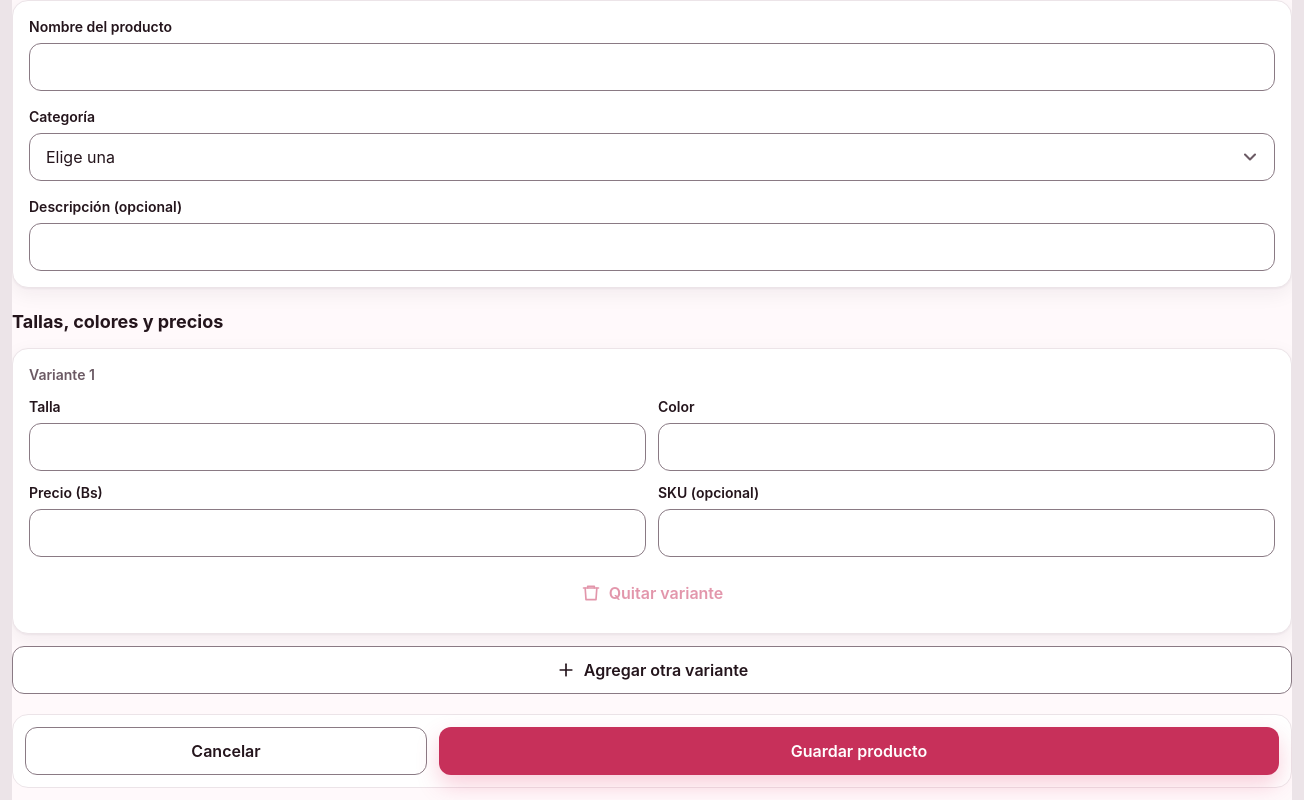
Formulario de producto — un SKU repetido se muestra junto al campo SKU
The width and height of the screenshot is (1304, 800).
Select "Botas" in the dropdown labelled "Categoría" at (652,157), box [29,133,1275,181]
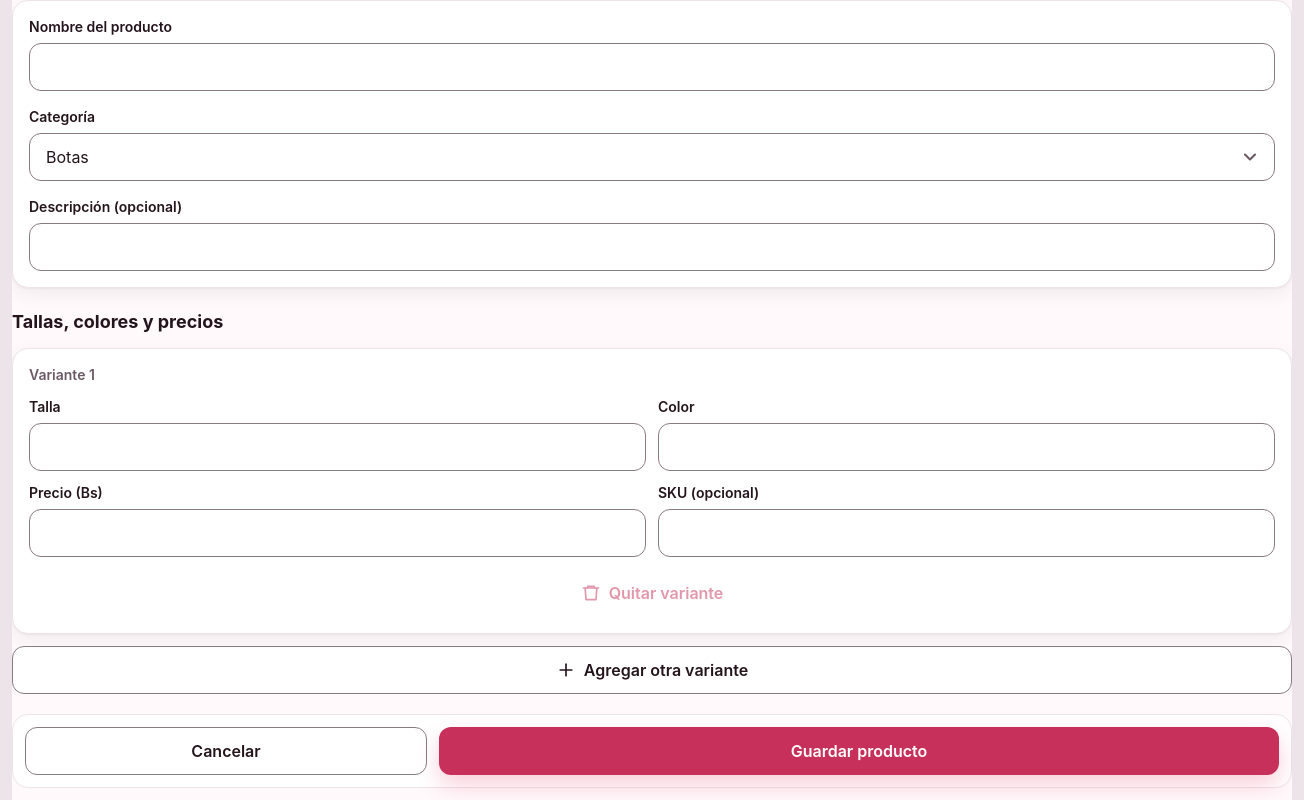
Type "Bota Andes" into the field labelled "Nombre del producto" at (652,67), box [29,43,1275,91]
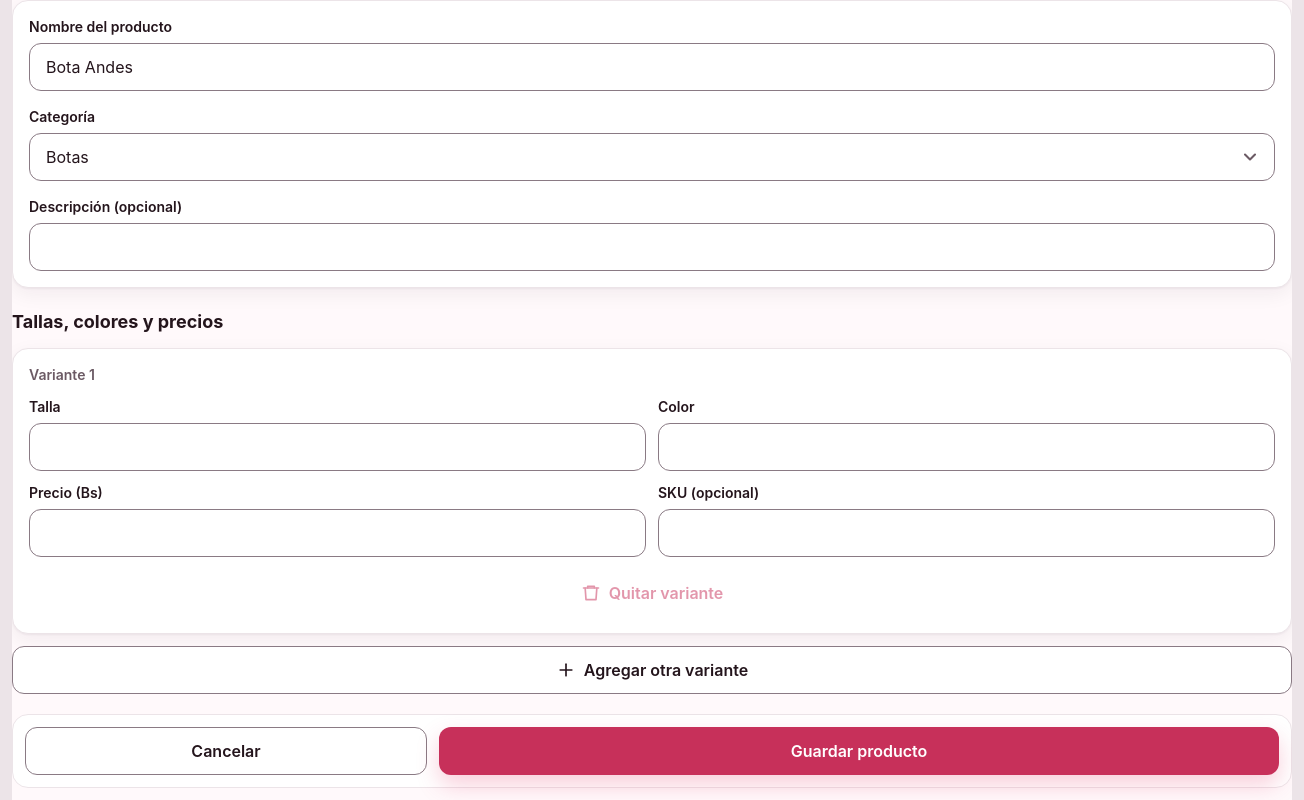
Type "38" into the field labelled "Talla" at (338,447), box [29,423,646,471]
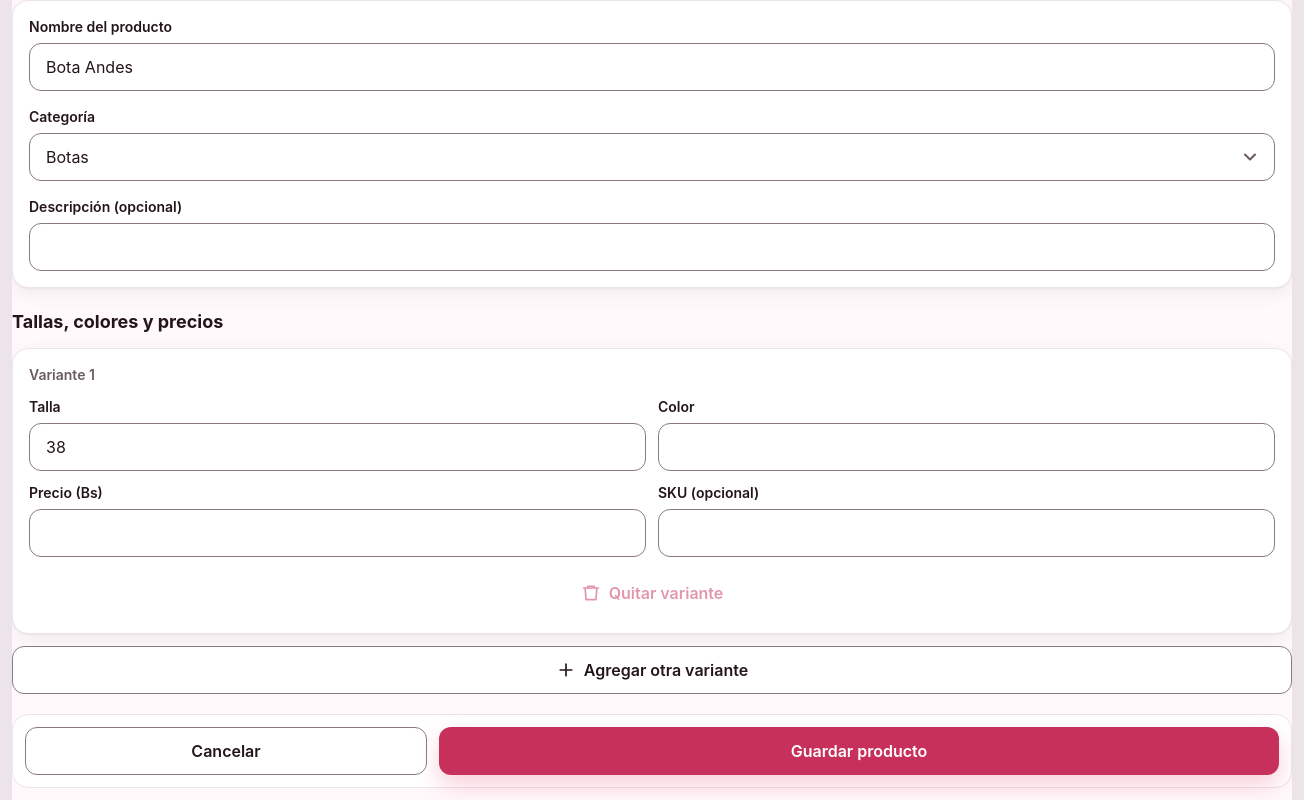
Type "580" into the field labelled "Precio (Bs)" at (338,533), box [29,509,646,557]
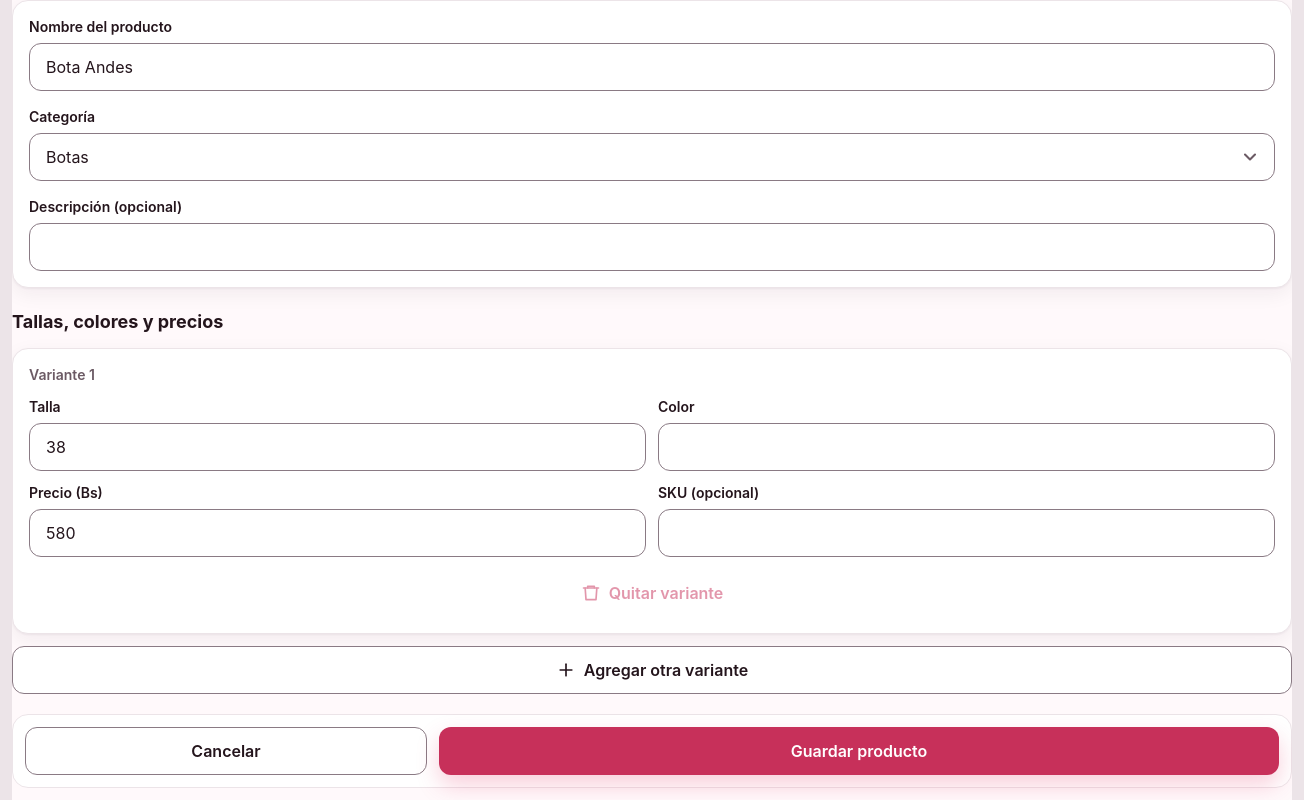
Type "bot-38" into the field labelled "SKU (opcional)" at (966,533), box [658,509,1275,557]
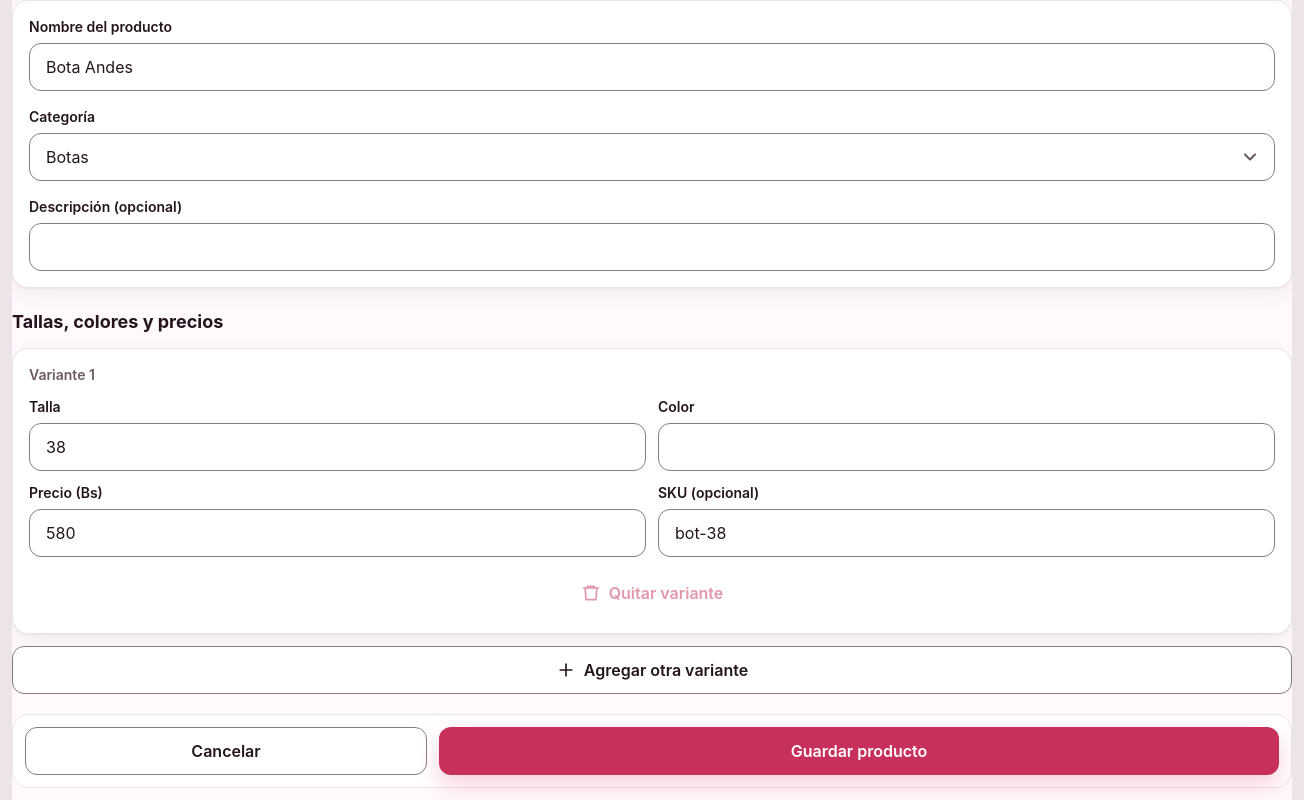
Click the button "Guardar producto" at (859,751), box [439,727,1279,775]
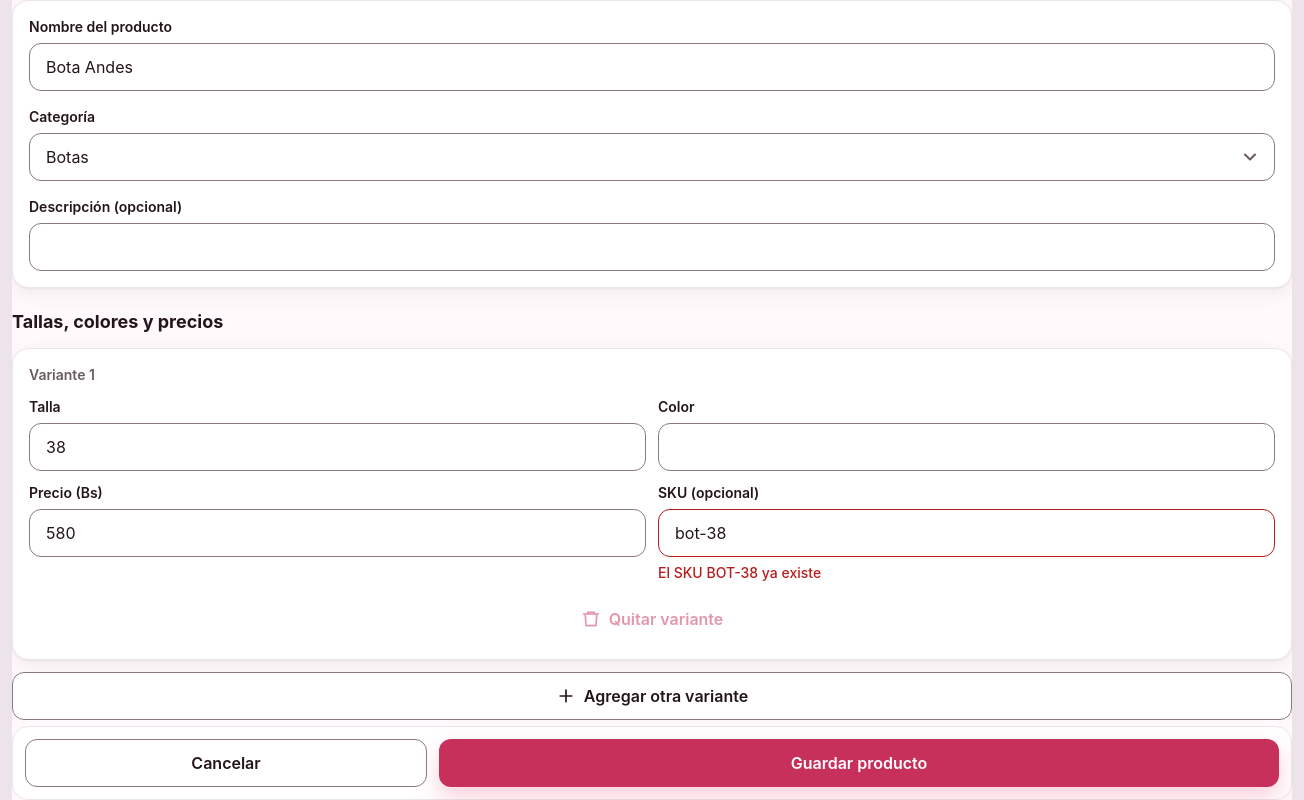
Expected: the text "El SKU BOT-38 ya existe" is shown, [658,564,821,581]
